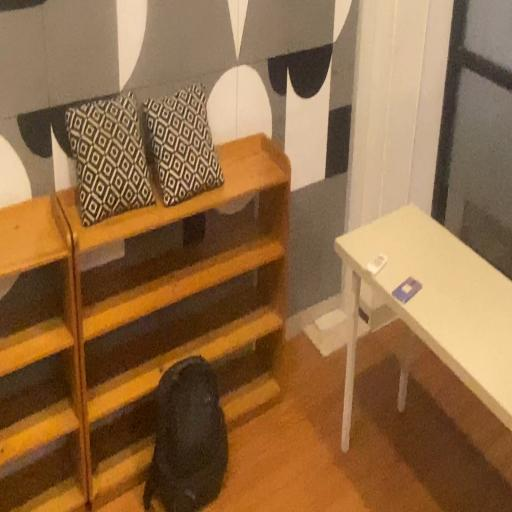bantal: (62, 85, 156, 233), (140, 79, 227, 216)
hp: (386, 274, 428, 306)
lemari: (54, 124, 296, 512)
meja: (330, 196, 512, 512)
remote AC: (368, 244, 388, 288)
tas ransel: (140, 357, 232, 512)
